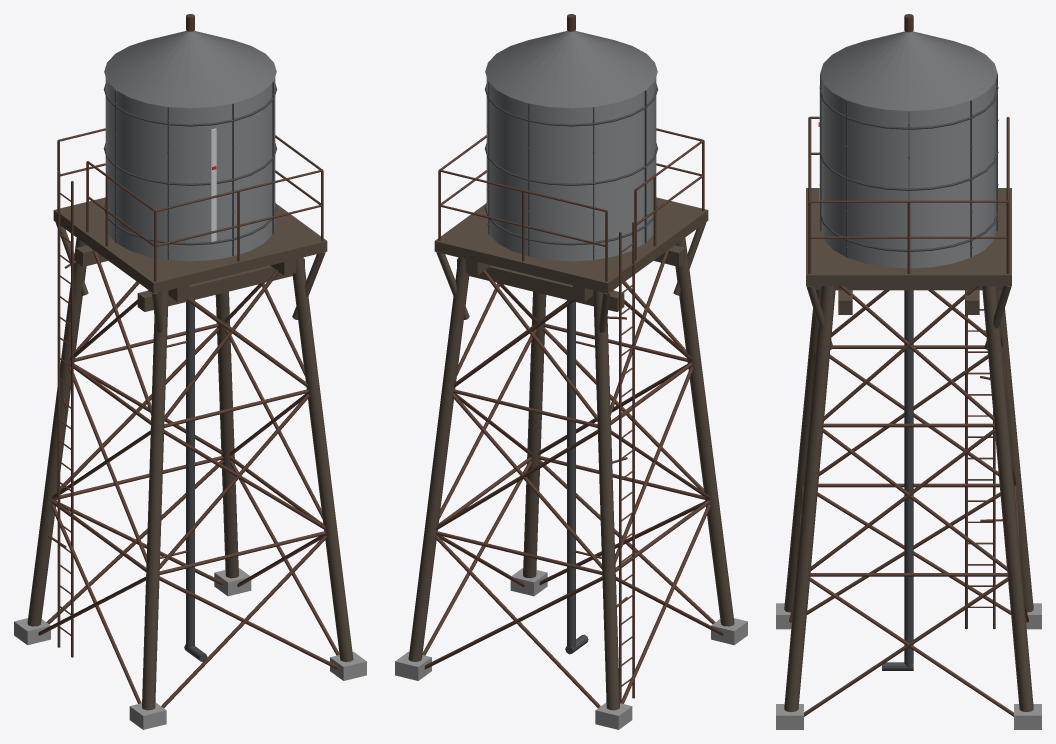
The model's file is water-tower.glb.
The picture shows the model from 3 angles, left to right: view 1: azimuth 30°, elevation 25°; view 2: azimuth 150°, elevation 25°; view 3: azimuth 270°, elevation 25°; orthographic projection. The views are drawn at different scales.
Parts seen in each view (by area): view 1: Mesh_WaterTank, Mesh_TankCap, Mesh_PlatformDeck, Mesh_DownPipe, Mesh_Leg0_B, Mesh_Leg1_B, Mesh_Leg0_A, Mesh_TimberCrossF, Mesh_LegLadderLeftRail, Mesh_Leg1_A, Mesh_Leg1_C, Mesh_Leg2_A (+30 smaller); view 2: Mesh_WaterTank, Mesh_TankCap, Mesh_PlatformDeck, Mesh_DownPipe, Mesh_Leg2_B, Mesh_Leg3_B, Mesh_Leg0_B, Mesh_Leg2_A, Mesh_TimberCrossB, Mesh_Leg3_A, Mesh_Leg3_C, Mesh_Leg0_A (+29 smaller); view 3: Mesh_WaterTank, Mesh_TankCap, Mesh_PlatformDeck, Mesh_DownPipe, Mesh_Leg1_B, Mesh_Leg3_B, Mesh_Leg1_A, Mesh_Leg3_A, Mesh_Leg1_C, Mesh_Leg3_C, Mesh_Leg0_B, Mesh_Leg2_B (+26 smaller).
Part boxes in pixels (x1,y1,x2,y2): Mesh_WaterTank: (105, 77, 275, 261); Mesh_TankCap: (104, 30, 276, 108); Mesh_PlatformDeck: (53, 197, 327, 293); Mesh_DownPipe: (186, 300, 194, 648); Mesh_Leg0_B: (146, 428, 164, 576); Mesh_Leg1_B: (307, 390, 337, 534); Mesh_Leg0_A: (142, 574, 159, 710); Mesh_TimberCrossF: (137, 258, 304, 311); Mesh_LegLadderLeftRail: (57, 171, 60, 647); Mesh_Leg1_A: (325, 531, 353, 661); Mesh_Leg1_C: (292, 257, 319, 392); Mesh_Leg2_A: (27, 499, 56, 626); Mesh_WaterTank: (486, 77, 656, 261); Mesh_TankCap: (485, 30, 657, 108); Mesh_PlatformDeck: (434, 197, 708, 293); Mesh_DownPipe: (567, 300, 575, 648); Mesh_Leg2_B: (597, 428, 615, 576); Mesh_Leg3_B: (424, 390, 454, 534); Mesh_Leg0_B: (688, 361, 718, 502); Mesh_Leg2_A: (602, 574, 619, 710); Mesh_TimberCrossB: (457, 258, 624, 311); Mesh_Leg3_A: (408, 531, 436, 661); Mesh_Leg3_C: (442, 257, 469, 392); Mesh_Leg0_A: (705, 499, 734, 626); Mesh_WaterTank: (821, 79, 996, 268); Mesh_TankCap: (820, 31, 997, 110); Mesh_PlatformDeck: (806, 188, 1011, 285); Mesh_DownPipe: (904, 290, 913, 667); Mesh_Leg1_B: (796, 425, 823, 577); Mesh_Leg3_B: (994, 425, 1021, 577); Mesh_Leg1_A: (784, 574, 809, 712); Mesh_Leg3_A: (1008, 574, 1033, 712); Mesh_Leg1_C: (809, 286, 835, 427); Mesh_Leg3_C: (982, 286, 1008, 427); Mesh_Leg0_B: (796, 347, 814, 487); Mesh_Leg2_B: (1003, 347, 1021, 487).
Bounding box in the file's own units: 3.35 × 9.17 × 3.35.
